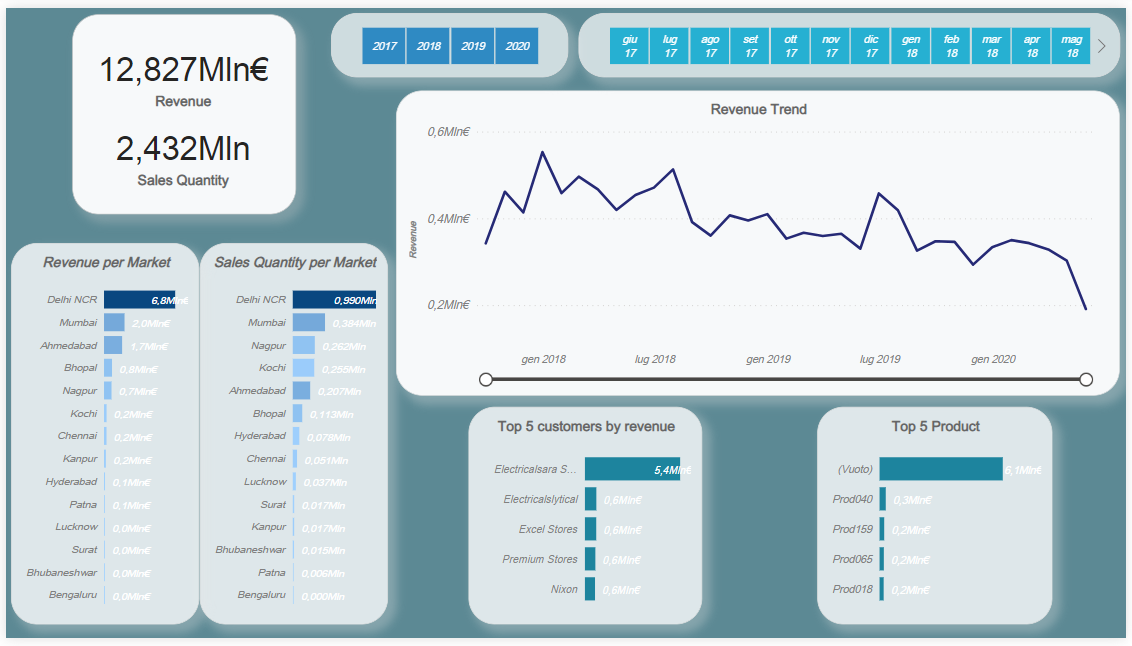

The page's visual inventory and layout, read from the dashboard file:
{"tool":"powerbi","page":{"name":"Pagina 1","canvas":[1280,720],"ordinal":0},"visuals":[{"type":"shape","box":[76.2,7.5,256.2,228.8],"z":0},{"type":"barChart","title":"Sales Quantity per Market","fields":{"Y":["transactions.Sales Quantity"],"Category":["markets.market_name"]},"box":[221.2,268.8,215,436.2],"z":1000},{"type":"barChart","title":"Revenue per Market","fields":{"Category":["markets.market_name"],"Y":["transactions.Revenue"]},"box":[5,268.8,215,436.2],"z":2000},{"type":"barChart","title":"Top 5 customers by revenue","fields":{"Category":["customers.customer_name"],"Y":["transactions.Revenue"]},"box":[528.8,456.2,267.5,248.8],"z":3000},{"type":"barChart","title":"Top 5 customers by revenue","fields":{"Category":["customers.customer_name"],"Y":["transactions.Revenue"]},"box":[1280,424,310,296],"z":4000},{"type":"barChart","title":"Top 5 Product","fields":{"Category":["products.product_code"],"Y":["transactions.Revenue"]},"box":[927.5,456.2,268.8,248.8],"z":5000},{"type":"lineChart","title":"Revenue Trend","fields":{"Y":["transactions.Revenue"],"Category":["distinct_date.cy_date"]},"box":[446.2,93.8,827.5,348.8],"z":6000},{"type":"card","fields":{"Values":["transactions.Revenue"]},"box":[96.2,36.2,213.8,86.2],"z":7000},{"type":"card","fields":{"Values":["transactions.Sales Quantity"]},"box":[96.2,126.2,213.8,86.2],"z":8000},{"type":"slicer","fields":{"Values":["distinct_date.year"]},"box":[371,6.2,270.9,73.6],"z":9000},{"type":"slicer","fields":{"Values":["distinct_date.cy_date"]},"box":[654.6,6.2,619.1,73.6],"z":10000}]}

Visuals, with their boxes in screenshot pixels (x1, y1, x2, y2), scaled from the page's 1280x720 canvas onto the 1132x646 screenshot:
shape: <region>67, 7, 294, 212</region>
"Sales Quantity per Market" barChart: <region>196, 241, 386, 633</region>
"Revenue per Market" barChart: <region>4, 241, 195, 633</region>
"Top 5 customers by revenue" barChart: <region>468, 409, 704, 633</region>
"Top 5 Product" barChart: <region>820, 409, 1058, 633</region>
"Revenue Trend" lineChart: <region>395, 84, 1126, 397</region>
card - transactions.Revenue: <region>85, 32, 274, 110</region>
card - transactions.Sales Quantity: <region>85, 113, 274, 191</region>
slicer - distinct_date.year: <region>328, 6, 568, 72</region>
slicer - distinct_date.cy_date: <region>579, 6, 1126, 72</region>
